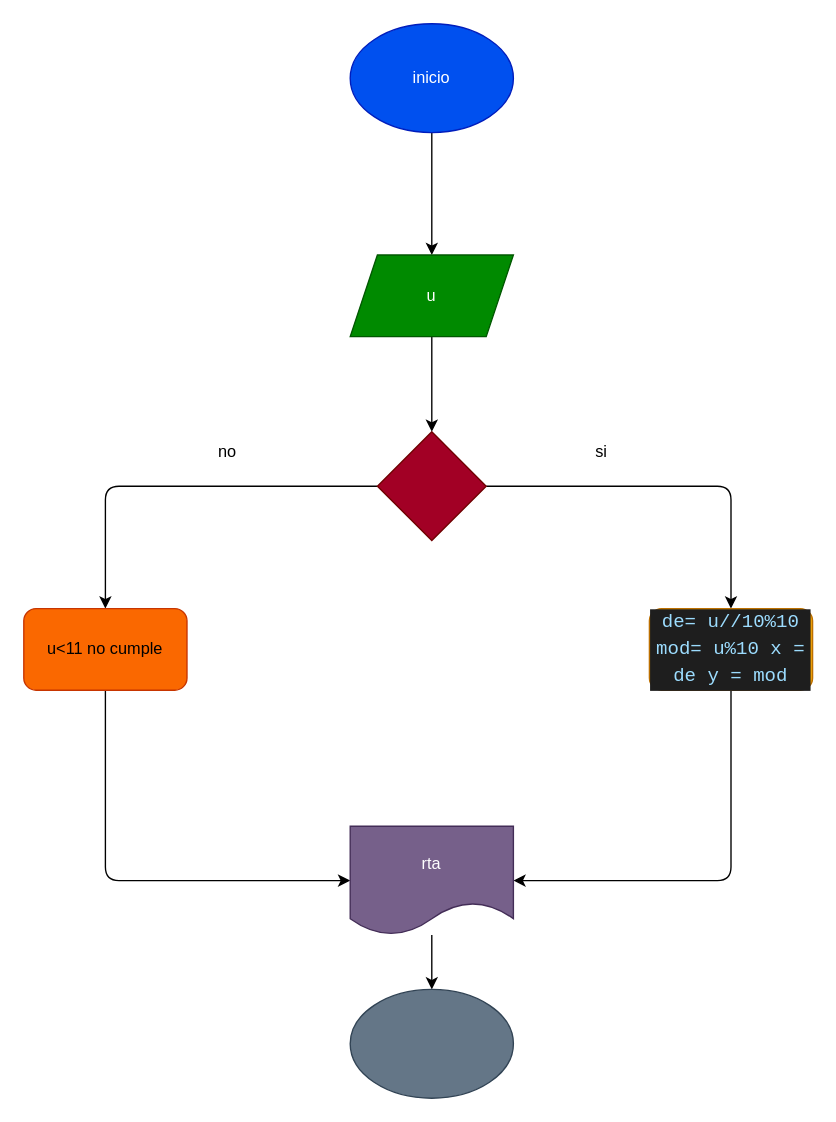
This 836x1122 diagram has some shape labels left out. Here are the shapes that lost their labels. From the top down, the centre of each, then its label:
At [431,485]: "u>=11".
At [431,1043]: "fin".
